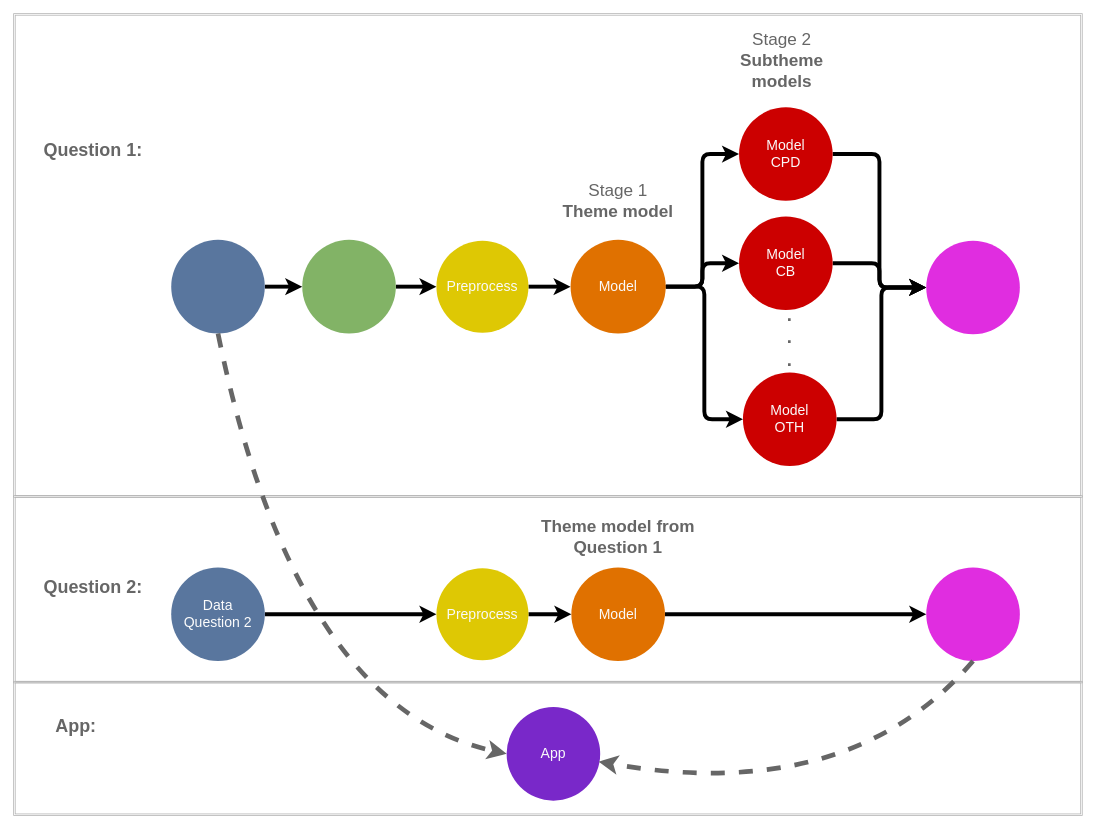
The diagram is 1096 pixels wide and 837 high, and some of its shapes have lost their labels. Here are the shapes that lost their labels. From the top down, the centre of each, then its label:
At (x=217, y=286): "Data Question 1".
At (x=348, y=286): "Split".
At (x=972, y=287): "Results".
At (x=972, y=614): "Predictions".
